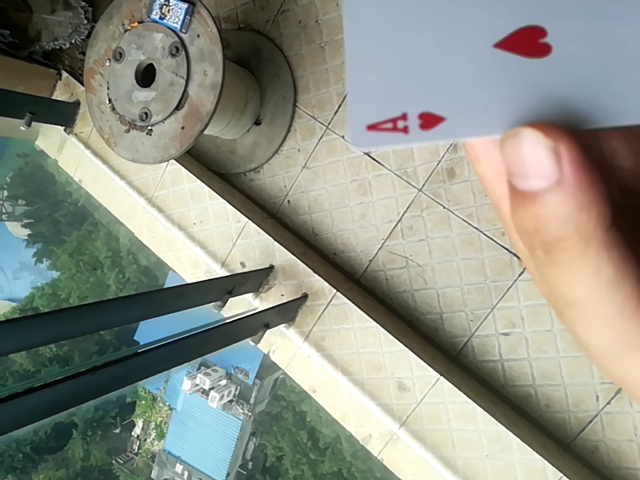hx a: (343, 1, 639, 148)
